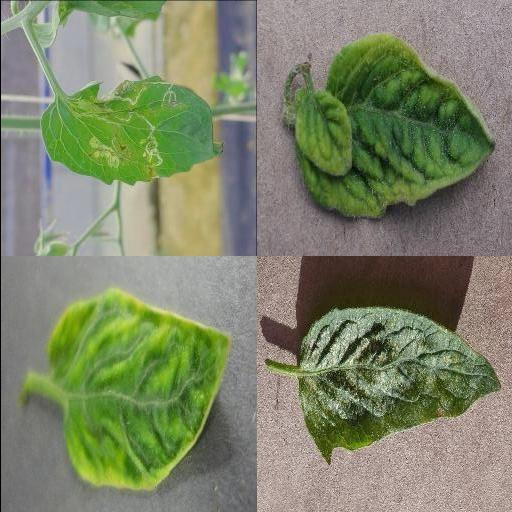Leaf Miner: (39, 74, 223, 186)
Spider Mites: (298, 309, 502, 463)
Yellow Leaf Curl Virus: (44, 288, 232, 492), (298, 33, 496, 219), (291, 93, 349, 177)
